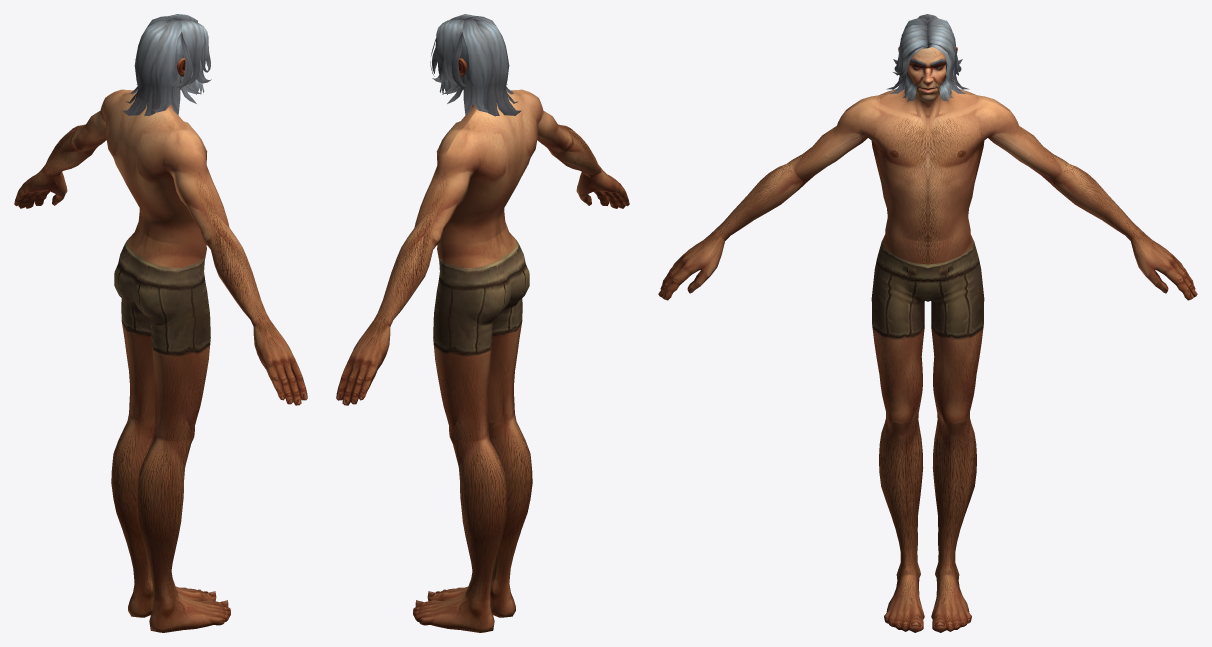
File: ThinHumanMale_MB.fbx
3 views of the same model, side by side, from view 1: azimuth 30°, elevation 25°; view 2: azimuth 150°, elevation 25°; view 3: azimuth 270°, elevation 25° (orthographic).
Visible parts, largest first — view 1: ThinHumanMale 1; view 2: ThinHumanMale 1; view 3: ThinHumanMale 1.
Part boxes in pixels (box(x1,y1,x2,y2)): ThinHumanMale 1: box(14, 14, 307, 632); ThinHumanMale 1: box(336, 14, 629, 632); ThinHumanMale 1: box(658, 14, 1197, 632).
Bounding box in the file's own units: 16.58 × 95.24 × 78.68.
Materials: 6 (6 with a texture image).
